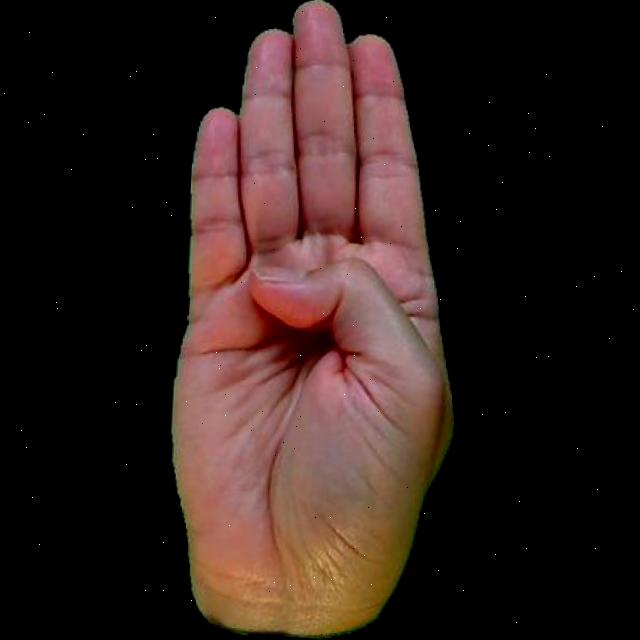b: (134, 0, 476, 640)
